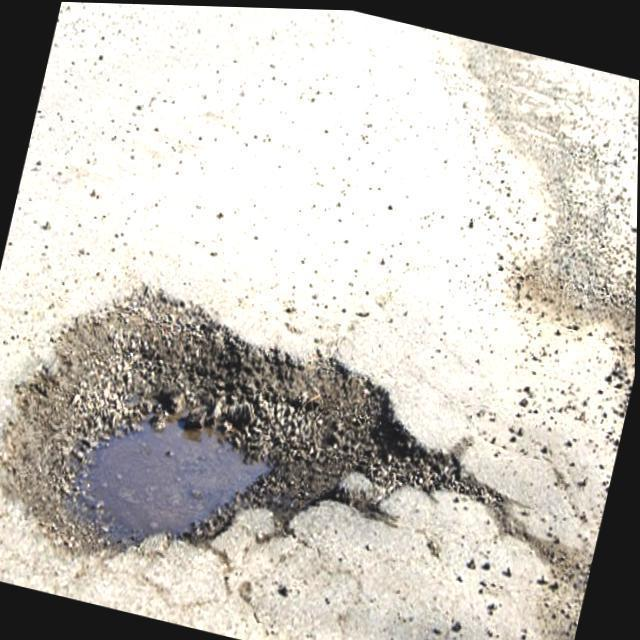Pothole: (13, 294, 504, 552)
